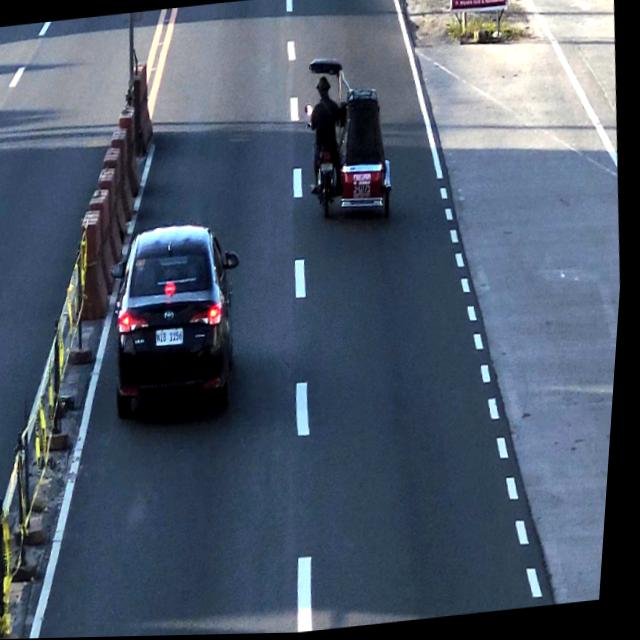Car: (109, 222, 250, 403)
License-Plate: (156, 323, 191, 354), (318, 162, 339, 178)
Tricycle: (292, 53, 404, 233)
